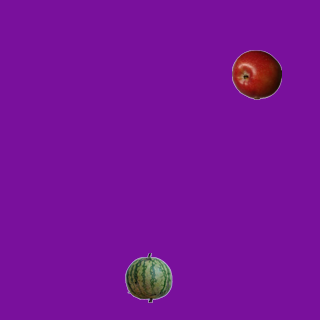Apple Braeburn: (231, 49, 281, 99)
Watermelon: (123, 252, 173, 302)
